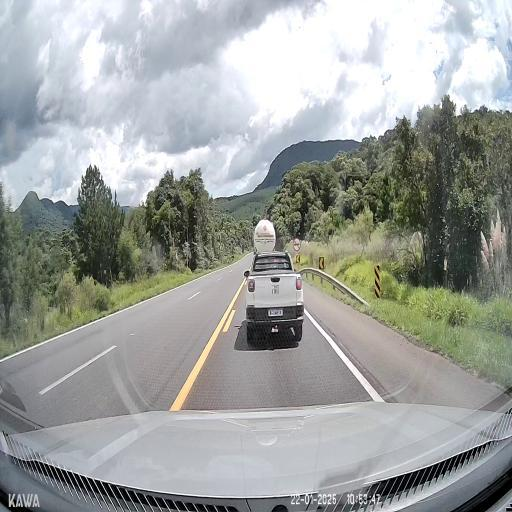R-7: (293, 238, 301, 251)
